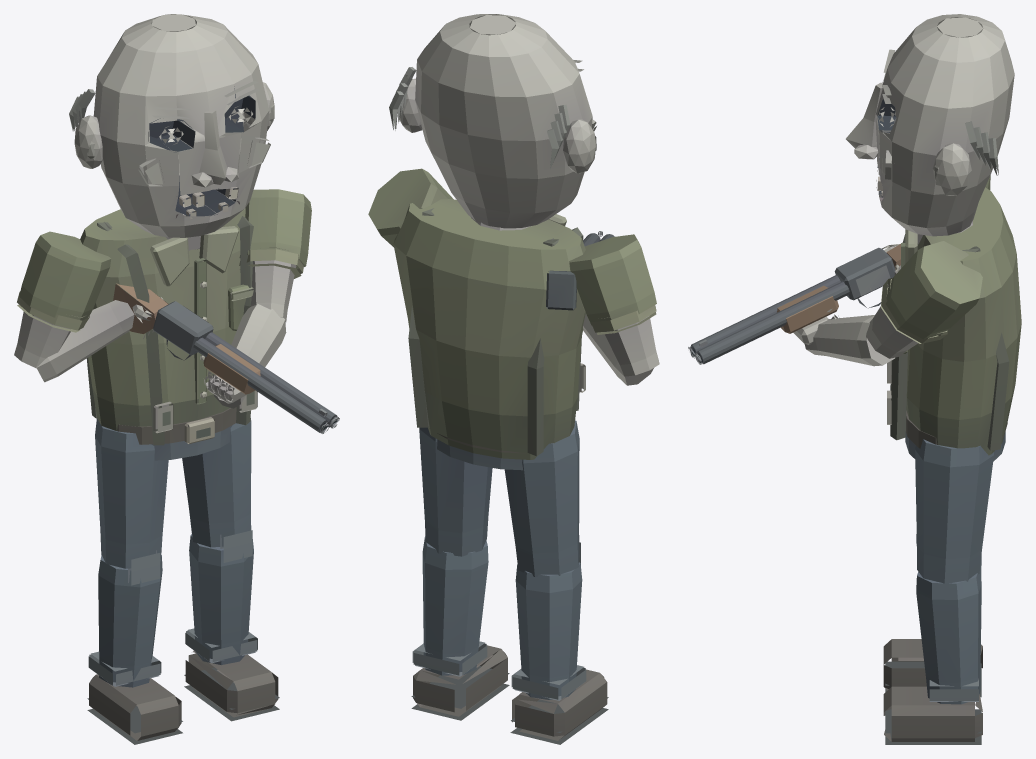
File: Grandfather.glb
3 views of the same model, side by side, from view 1: azimuth 30°, elevation 25°; view 2: azimuth 150°, elevation 25°; view 3: azimuth 270°, elevation 25° (orthographic). The views are drawn at different scales.
Visible parts, largest first — view 1: Body, Head, LegR, LegL, ArmR, ArmL; view 2: Body, Head, LegR, LegL, ArmR, ArmL; view 3: Body, Head, LegL, ArmL, LegR.
Boxes of the visible parts, x1,y1,x2,y2 form: Body: (80,205,339,460); Head: (69,14,274,237); LegR: (87,418,182,744); LegL: (182,418,279,721); ArmR: (14,231,163,382); ArmL: (203,189,311,408); Body: (393,199,614,470); Head: (389,14,596,228); LegR: (504,420,608,744); LegL: (411,427,509,720); ArmR: (569,234,659,385); ArmL: (368,168,453,247); Body: (688,187,1021,461); Head: (846,14,1014,236); LegL: (883,439,993,744); ArmL: (793,241,982,366); LegR: (883,534,982,697).
Bounding box in the file's own units: 2.69 × 6.16 × 2.72.
